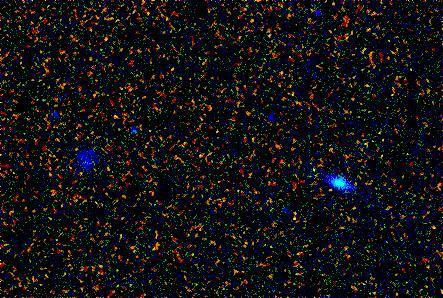star: (317, 175, 347, 205)
